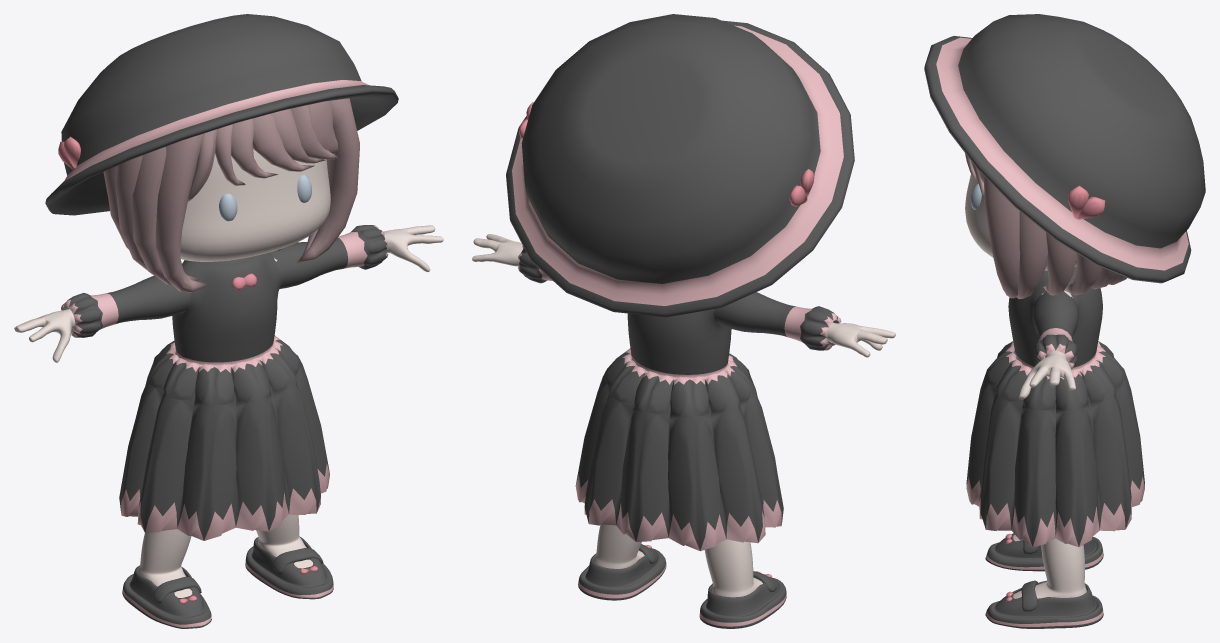
File: girl.fbx
3 renders of one model, left to right at view 1: azimuth 30°, elevation 25°; view 2: azimuth 150°, elevation 25°; view 3: azimuth 270°, elevation 25°, orthographic. The views are drawn at different scales.
Visible parts, largest first — view 1: char_mesh7, pSphere1, body, pCone10, pCone9, char_mesh9, char_mesh8, pCone21, pCone18, pCone4, pCone1, pCone5 (+5 smaller); view 2: pSphere1, char_mesh7, body, char_mesh9, char_mesh8; view 3: pSphere1, char_mesh7, body, char_mesh8, pCone9, char_mesh9, pCone12, pCone13, pCone14, pCone27, pCone26.
Boxes of the visible parts, <box> form: char_mesh7: <box>61,225,388,540</box>; pSphere1: <box>45,14,398,215</box>; body: <box>14,149,443,597</box>; pCone10: <box>155,133,209,292</box>; pCone9: <box>295,98,359,263</box>; char_mesh9: <box>122,565,211,628</box>; char_mesh8: <box>245,537,333,599</box>; pCone21: <box>132,147,200,285</box>; pCone18: <box>115,155,148,271</box>; pCone4: <box>252,113,314,171</box>; pCone1: <box>231,118,278,178</box>; pCone5: <box>271,109,325,163</box>; pSphere1: <box>506,14,854,317</box>; char_mesh7: <box>518,246,841,551</box>; body: <box>472,234,895,597</box>; char_mesh9: <box>699,571,786,628</box>; char_mesh8: <box>578,544,666,600</box>; pSphere1: <box>924,14,1205,283</box>; char_mesh7: <box>966,266,1144,547</box>; body: <box>965,174,1086,598</box>; char_mesh8: <box>985,580,1103,628</box>; pCone9: <box>983,176,1020,298</box>; char_mesh9: <box>985,533,1103,571</box>; pCone12: <box>1016,211,1047,299</box>; pCone13: <box>1043,232,1076,295</box>; pCone14: <box>1065,253,1102,295</box>; pCone27: <box>1068,186,1088,218</box>; pCone26: <box>1077,196,1105,219</box>.
Bounding box in the file's own units: 15.68 × 20.39 × 9.37.
